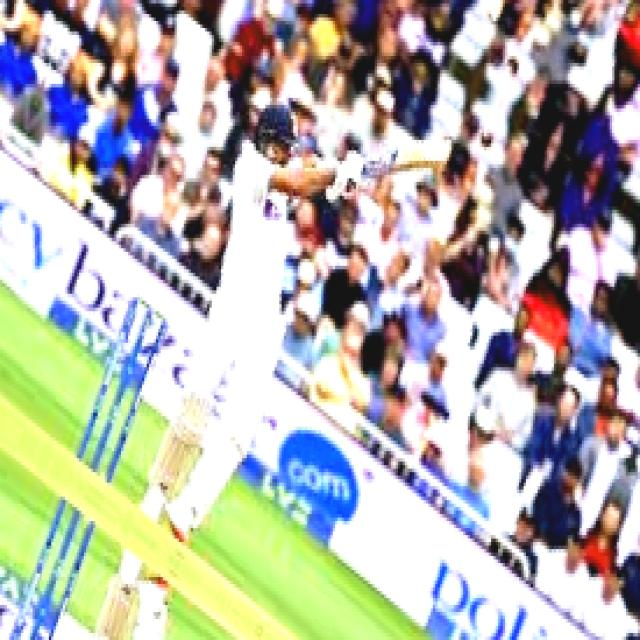toe: (438, 140, 457, 172)
